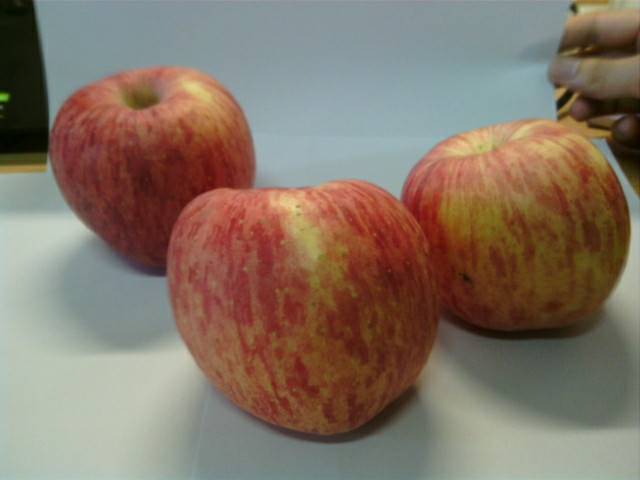normal_apple: (167, 184, 439, 438), (399, 121, 631, 339), (48, 64, 257, 280)
